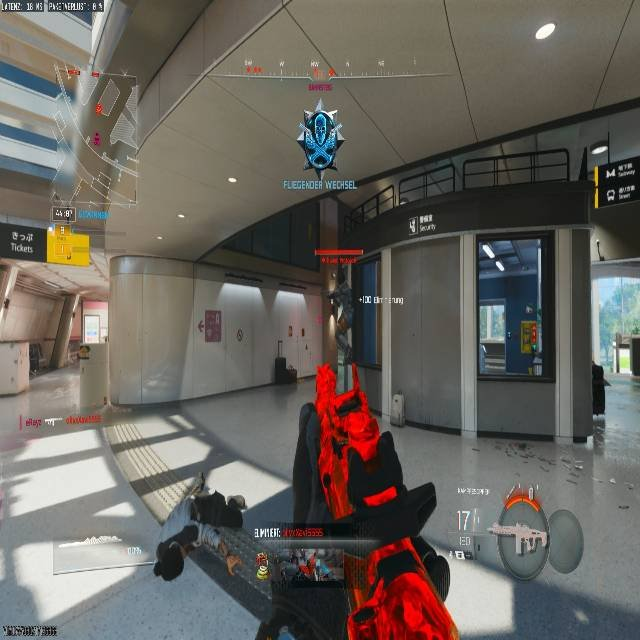player: (296, 106, 342, 171), (328, 269, 353, 358)
